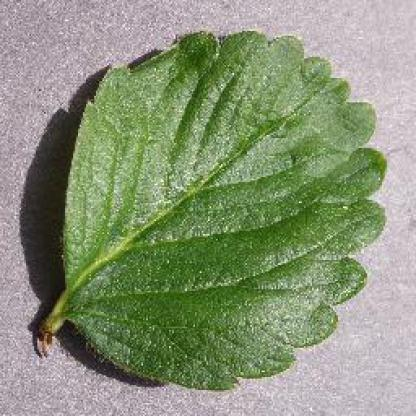healthy: (32, 21, 395, 397)
